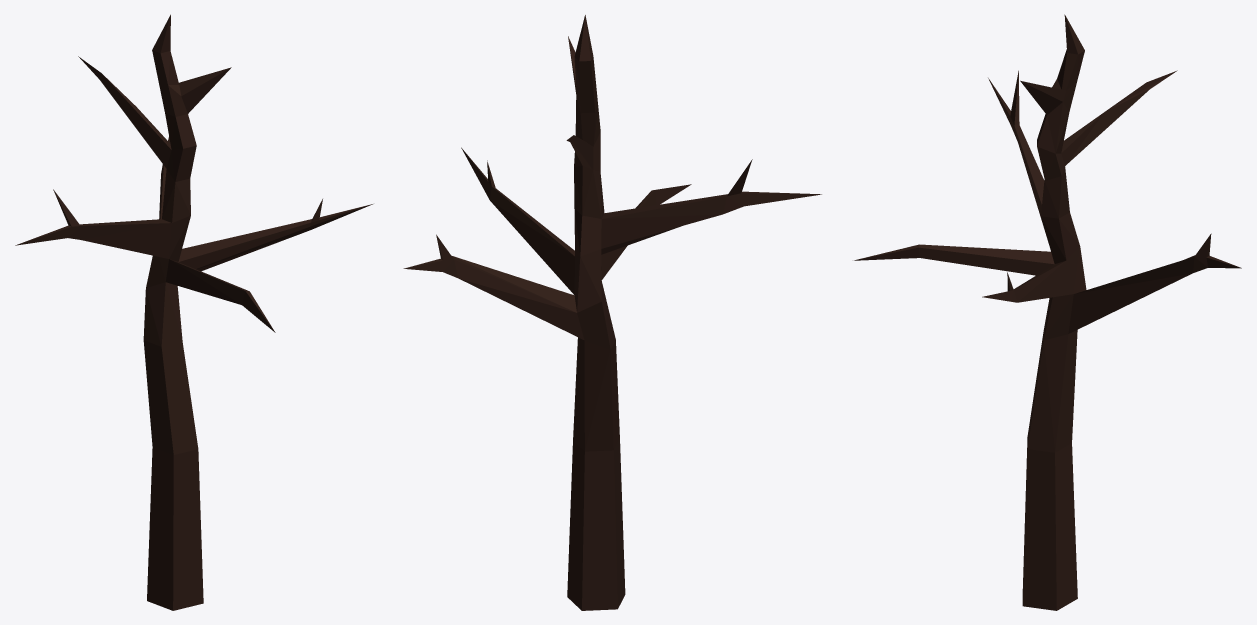
Rendered from Tree.fbx.
The picture shows the model from 3 angles, left to right: view 1: azimuth 30°, elevation 25°; view 2: azimuth 150°, elevation 25°; view 3: azimuth 270°, elevation 25°; orthographic projection. The views are drawn at different scales.
Parts seen in each view (by area): view 1: Tree; view 2: Tree; view 3: Tree.
Part boxes in pixels (x1=…): Tree: x1=15, y1=14, x2=372, y2=610; Tree: x1=403, y1=15, x2=821, y2=610; Tree: x1=854, y1=14, x2=1241, y2=610.
Size of the model in its own units: 803 by 1239 by 748.
